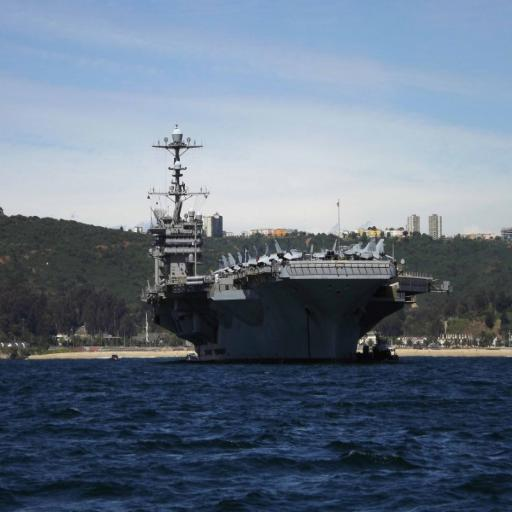Portanaves: (137, 116, 457, 368)
